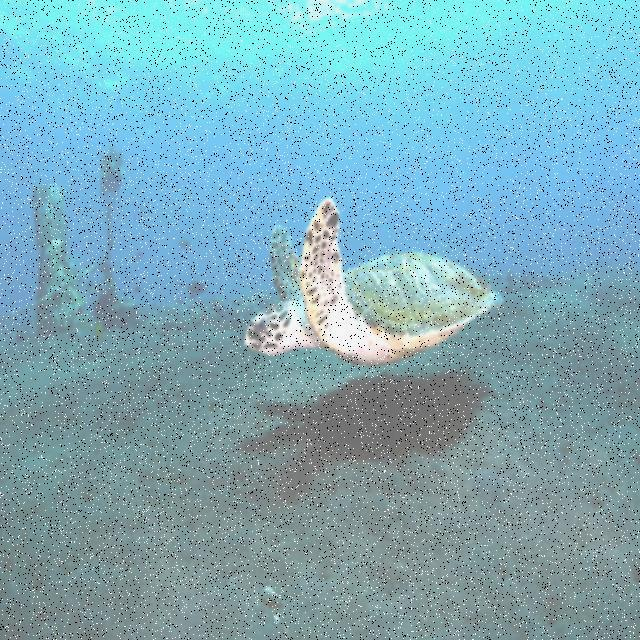tortoise: (227, 190, 508, 396)
